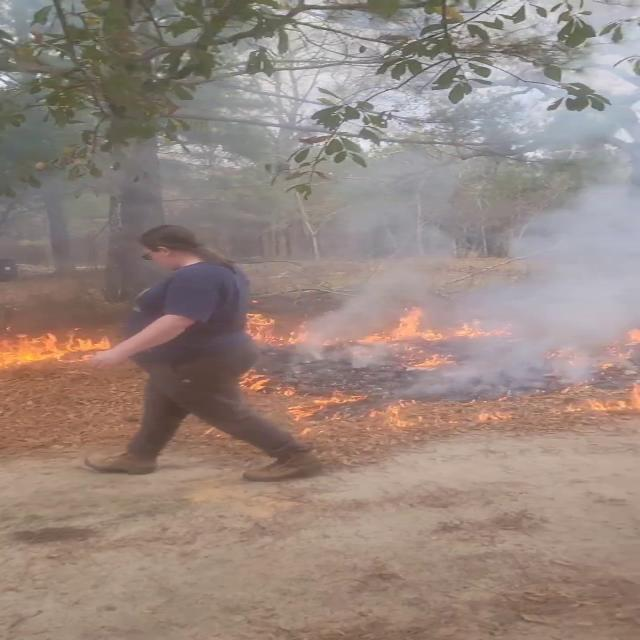Fire: (366, 297, 490, 368), (7, 317, 128, 375), (235, 367, 332, 416)
Smoke: (326, 8, 640, 354)
